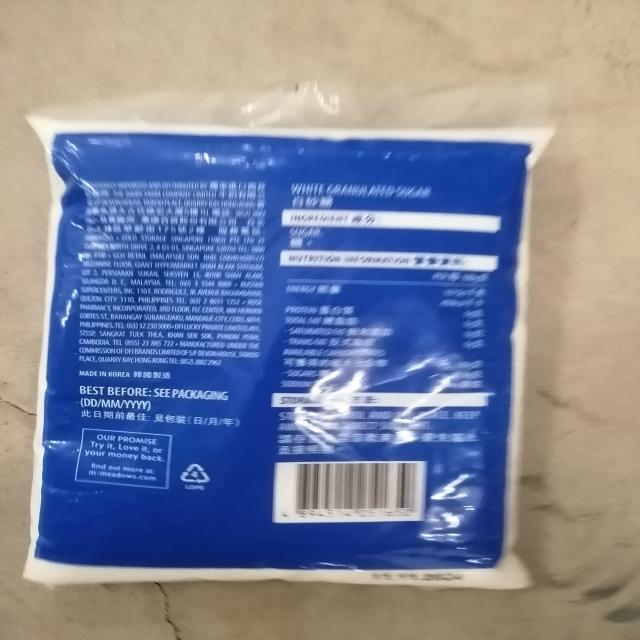object_name: (28, 114, 537, 581)
